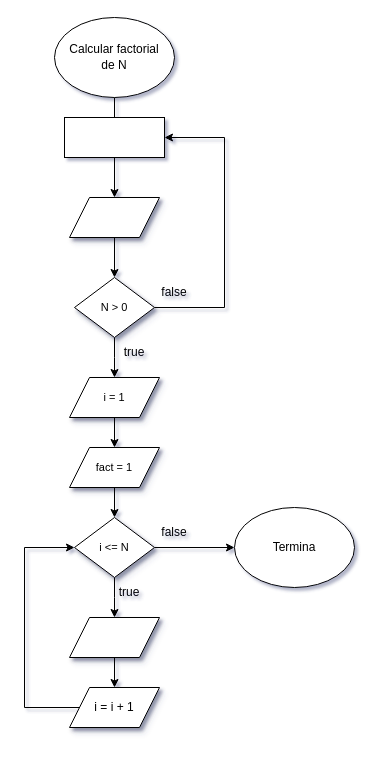
Some shapes in this 378 by 758 pixel diagram are drawn without their labels. Here are the shapes that lost their labels. From the top down, the centre of each, then its label:
At point 114,137: "Pedir datos al usuario".
At point 115,218: "N = entrada".
At point 115,638: "fact = fact x i".
